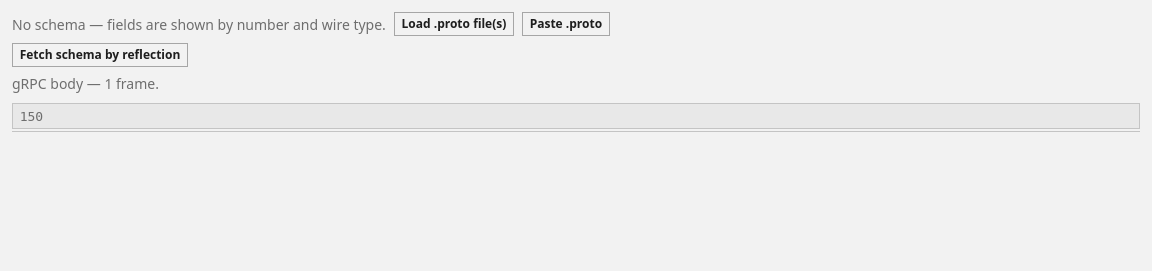
Scenario: reflect-decode on the Protobuf tab › the button is offered and the fetch needs a target and a service
Click the button "Fetch schema by reflection" at (100, 55), box [12,43,188,67]
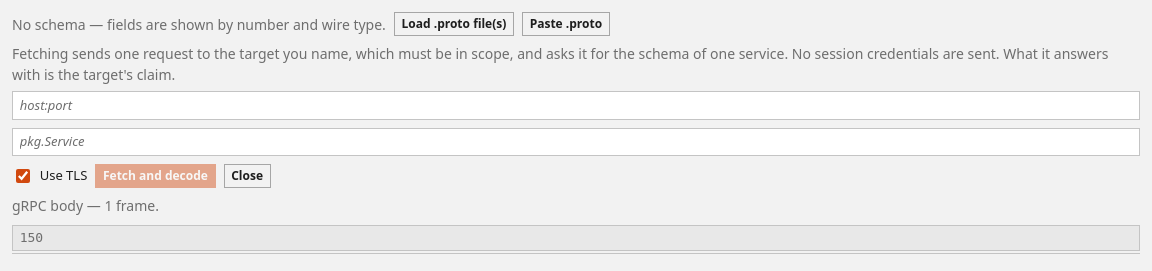
expect the button "Fetch and decode" is disabled: met, box [95,164,216,188]
Type "api.test:443" into the field named "Reflection target (host:port)" at (576, 106), box [12,91,1140,120]
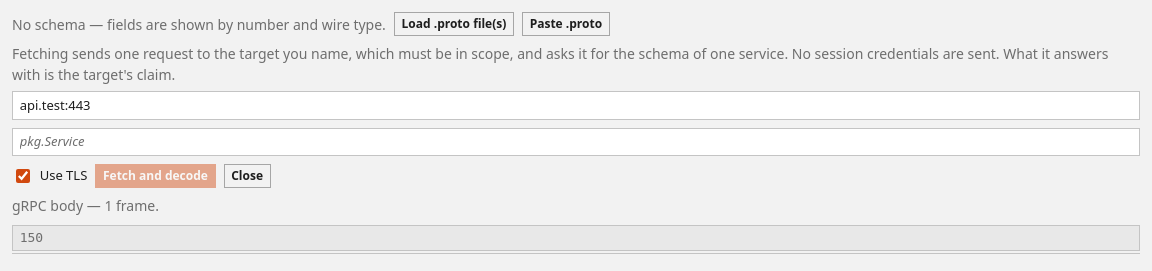
expect the button "Fetch and decode" is disabled: met, box [95,164,216,188]
Type "acme.v1.Users" into the field named "gRPC service" at (576, 142), box [12,128,1140,156]
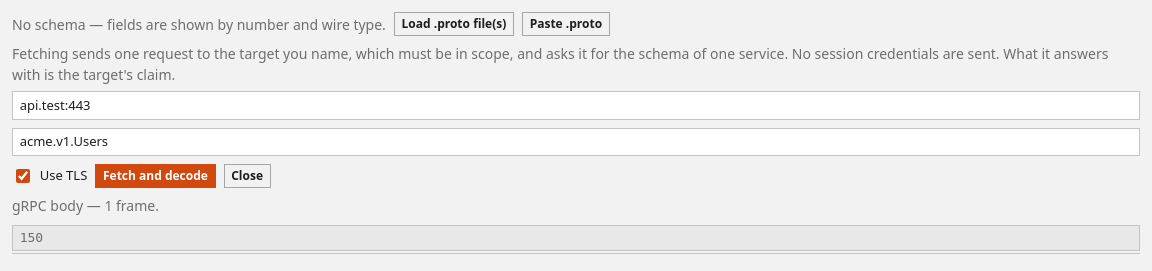
expect the button "Fetch and decode" is enabled: met, box [95,164,216,188]
